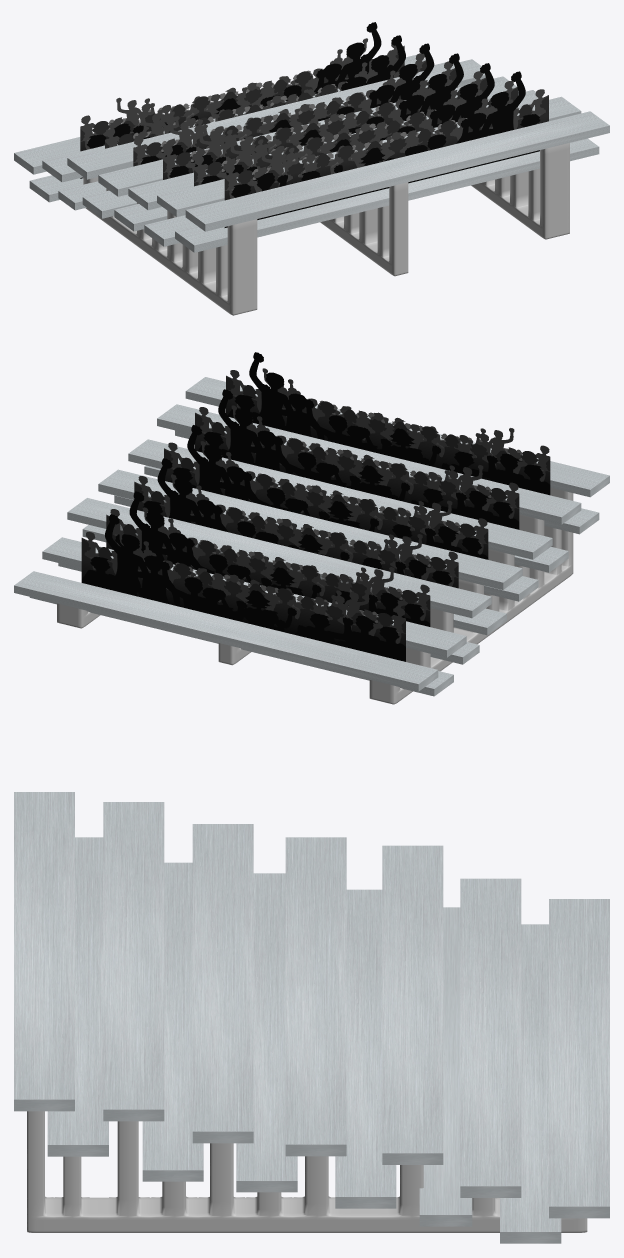
The model's file is crowd_bench.FBX.
3 views of the same model, one above another, from view 1: azimuth 30°, elevation 25°; view 2: azimuth 150°, elevation 25°; view 3: azimuth 270°, elevation 25° (orthographic). The views are drawn at different scales.
Visible parts, largest first — view 1: Box076, Box083, Plane010, Plane005, Plane008, Box089, Plane007, Plane009, Box079, Plane006, Box082, Box080 (+8 smaller); view 2: Plane005, Plane010, Plane009, Box077, Plane008, Plane006, Plane007, Box079, Box076, Box080, Box081, Box082 (+8 smaller); view 3: Box076, Box078, Box079, Box080, Box081, Box082, Box077, Box083, Box086, Box087, Box088, Box089 (+2 smaller).
Boxes of the visible parts, left/top/right/bottom form: Box076: left=83, top=143, right=569, bottom=315; Box083: left=185, top=111, right=609, bottom=231; Plane010: left=224, top=71, right=548, bottom=227; Plane005: left=80, top=22, right=404, bottom=178; Plane008: left=163, top=53, right=487, bottom=179; Box089: left=175, top=138, right=599, bottom=252; Plane007: left=133, top=43, right=457, bottom=166; Plane009: left=194, top=63, right=517, bottom=186; Box079: left=67, top=59, right=491, bottom=179; Plane006: left=105, top=35, right=426, bottom=148; Box082: left=157, top=96, right=581, bottom=216; Box080: left=98, top=76, right=518, bottom=196; Plane005: left=81, top=514, right=405, bottom=661; Plane010: left=226, top=352, right=550, bottom=495; Plane009: left=195, top=389, right=519, bottom=529; Box077: left=14, top=571, right=438, bottom=691; Plane008: left=164, top=425, right=488, bottom=559; Plane006: left=106, top=491, right=430, bottom=626; Plane007: left=134, top=458, right=458, bottom=588; Box079: left=67, top=498, right=491, bottom=618; Box076: left=57, top=487, right=573, bottom=704; Box080: left=98, top=469, right=522, bottom=589; Box081: left=128, top=439, right=552, bottom=559; Box082: left=157, top=404, right=581, bottom=524; Box076: left=27, top=1111, right=587, bottom=1232; Box078: left=460, top=878, right=521, bottom=1197; Box079: left=382, top=845, right=443, bottom=1164; Box080: left=285, top=837, right=346, bottom=1156; Box081: left=192, top=824, right=253, bottom=1143; Box082: left=103, top=802, right=164, bottom=1121; Box077: left=549, top=899, right=609, bottom=1218; Box083: left=14, top=792, right=74, bottom=1111; Box086: left=335, top=889, right=396, bottom=1208; Box087: left=236, top=873, right=297, bottom=1192; Box088: left=142, top=862, right=203, bottom=1181; Box089: left=47, top=837, right=108, bottom=1156.
Size of the model in its own units: 18.37 by 6.94 by 15.04.
